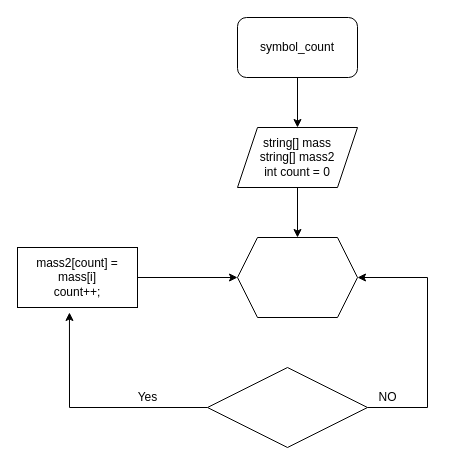
This 453x465 diagram has some shape labels left out. The shapes that lost their labels are listed below. From the top down, each one's centre as x and y in pixels, then its label:
At pixel 297 277: "for (int i = 0; i< mass.length; i++)".
At pixel 287 407: "if (mass[i].length<=3)".
